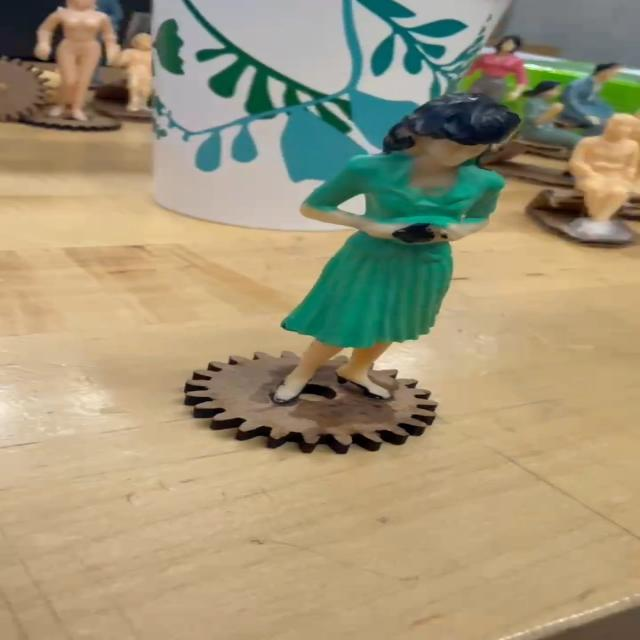Authorized: (256, 62, 531, 461)
